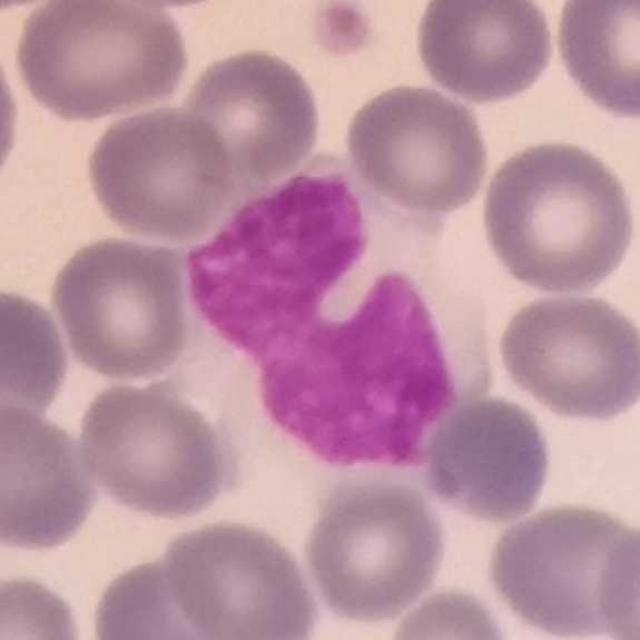mono: (173, 145, 508, 519)
